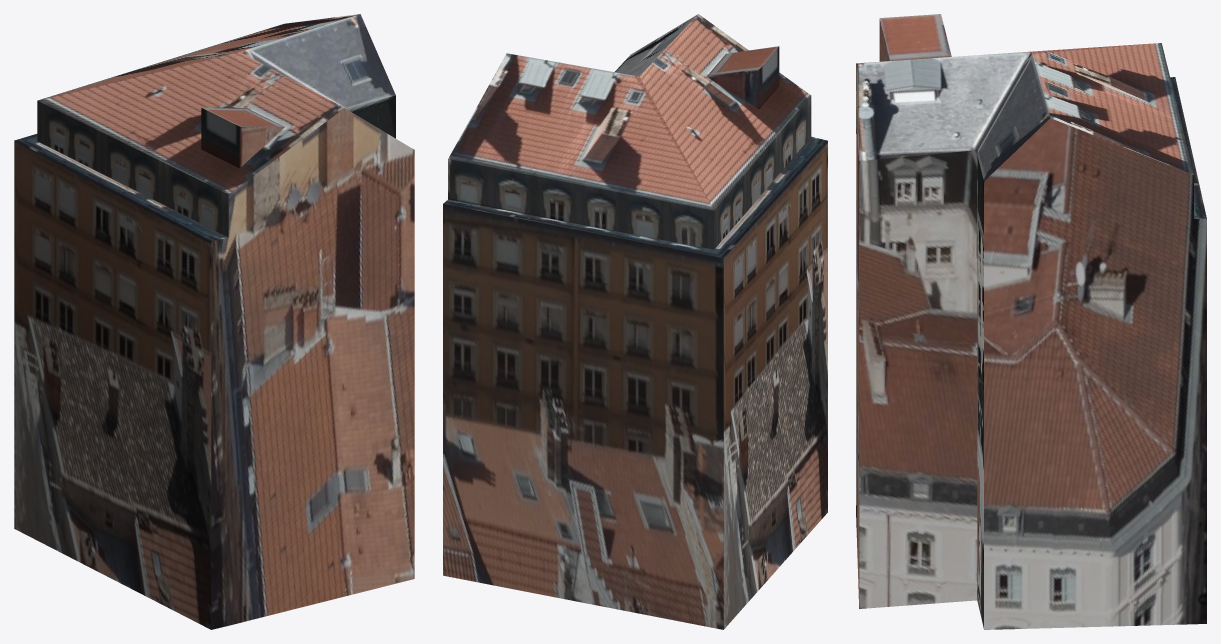
3 renders of one model, left to right at view 1: azimuth 30°, elevation 25°; view 2: azimuth 150°, elevation 25°; view 3: azimuth 270°, elevation 25°, orthographic. The views are drawn at different scales.
Visible parts, largest first — view 1: Z_UP; view 2: Z_UP; view 3: Z_UP.
Part boxes in pixels (x1=…): Z_UP: x1=14, y1=14, x2=414, y2=629; Z_UP: x1=443, y1=14, x2=827, y2=629; Z_UP: x1=856, y1=14, x2=1206, y2=629.
Bounding box in the file's own units: 16.89 × 27.23 × 16.96.
2 materials, 1 textured.
